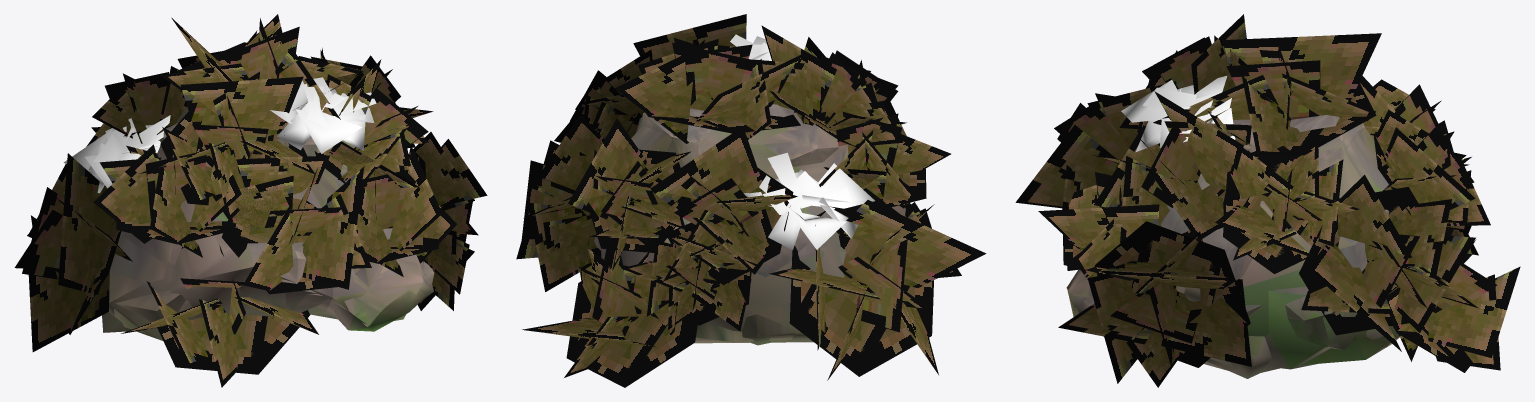
Rendered from objects_un_plan_reef01_02.gltf.
The picture shows the model from 3 angles, left to right: view 1: azimuth 30°, elevation 25°; view 2: azimuth 150°, elevation 25°; view 3: azimuth 270°, elevation 25°; orthographic projection. The views are drawn at different scales.
Visible parts, largest first — view 1: um_objects_un_plan_reef01_02_model_lod0Shape:plants_me_deser (×2), um_objects_un_plan_reef01_02_model_lod1Shape:plants_me_deser (×2), um_objects_un_plan_reef01_02_model_lod2Shape:plants_me_deser (×2), um_objects_un_plan_reef01_02_model_lod0Shape:plants_me_bush0, um_objects_un_plan_reef01_02_model_lod2Shape:ground_un_rock0, um_objects_un_plan_reef01_02_model_lod1Shape:ground_un_rock0, um_objects_un_plan_reef01_02_model_lod0Shape:ground_un_rock0; view 2: um_objects_un_plan_reef01_02_model_lod0Shape:plants_me_deser (×2), um_objects_un_plan_reef01_02_model_lod1Shape:plants_me_deser (×2), um_objects_un_plan_reef01_02_model_lod2Shape:plants_me_deser (×2), um_objects_un_plan_reef01_02_model_lod2Shape:ground_un_rock0, um_objects_un_plan_reef01_02_model_lod0Shape:plants_me_bush0, um_objects_un_plan_reef01_02_model_lod0Shape:ground_un_rock0, um_objects_un_plan_reef01_02_model_lod1Shape:ground_un_rock0, um_objects_un_plan_reef01_02_model_lod1Shape:plants_me_bush0; view 3: um_objects_un_plan_reef01_02_model_lod0Shape:plants_me_deser (×2), um_objects_un_plan_reef01_02_model_lod1Shape:plants_me_deser (×2), um_objects_un_plan_reef01_02_model_lod2Shape:plants_me_deser (×2), um_objects_un_plan_reef01_02_model_lod2Shape:ground_un_rock0, um_objects_un_plan_reef01_02_model_lod1Shape:ground_un_rock0, um_objects_un_plan_reef01_02_model_lod0Shape:ground_un_rock0, um_objects_un_plan_reef01_02_model_lod0Shape:plants_me_bush0.
Part boxes in pixels (x1,y1,x2,y2): um_objects_un_plan_reef01_02_model_lod0Shape:plants_me_deser (×2): (16,17,487,374); um_objects_un_plan_reef01_02_model_lod1Shape:plants_me_deser (×2): (14,14,474,387); um_objects_un_plan_reef01_02_model_lod2Shape:plants_me_deser (×2): (83,18,442,372); um_objects_un_plan_reef01_02_model_lod0Shape:plants_me_bush0: (63,77,376,193); um_objects_un_plan_reef01_02_model_lod2Shape:ground_un_rock0: (102,140,424,332); um_objects_un_plan_reef01_02_model_lod1Shape:ground_un_rock0: (109,106,433,340); um_objects_un_plan_reef01_02_model_lod0Shape:ground_un_rock0: (109,123,434,333); um_objects_un_plan_reef01_02_model_lod0Shape:plants_me_deser (×2): (516,14,961,387); um_objects_un_plan_reef01_02_model_lod1Shape:plants_me_deser (×2): (521,22,938,380); um_objects_un_plan_reef01_02_model_lod2Shape:plants_me_deser (×2): (516,37,986,387); um_objects_un_plan_reef01_02_model_lod2Shape:ground_un_rock0: (621,106,905,343); um_objects_un_plan_reef01_02_model_lod0Shape:plants_me_bush0: (730,34,874,250); um_objects_un_plan_reef01_02_model_lod0Shape:ground_un_rock0: (590,108,839,345); um_objects_un_plan_reef01_02_model_lod1Shape:ground_un_rock0: (601,104,848,342); um_objects_un_plan_reef01_02_model_lod1Shape:plants_me_bush0: (743,42,850,237); um_objects_un_plan_reef01_02_model_lod0Shape:plants_me_deser (×2): (1015,14,1516,383); um_objects_un_plan_reef01_02_model_lod1Shape:plants_me_deser (×2): (1019,16,1497,387); um_objects_un_plan_reef01_02_model_lod2Shape:plants_me_deser (×2): (1065,33,1520,371); um_objects_un_plan_reef01_02_model_lod2Shape:ground_un_rock0: (1068,123,1399,373); um_objects_un_plan_reef01_02_model_lod1Shape:ground_un_rock0: (1066,115,1389,369); um_objects_un_plan_reef01_02_model_lod0Shape:ground_un_rock0: (1067,116,1391,378); um_objects_un_plan_reef01_02_model_lod0Shape:plants_me_bush0: (1121,75,1235,151).
Bounding box in the file's own units: 8.98 × 5.82 × 9.06.
4 materials, 3 textured.
